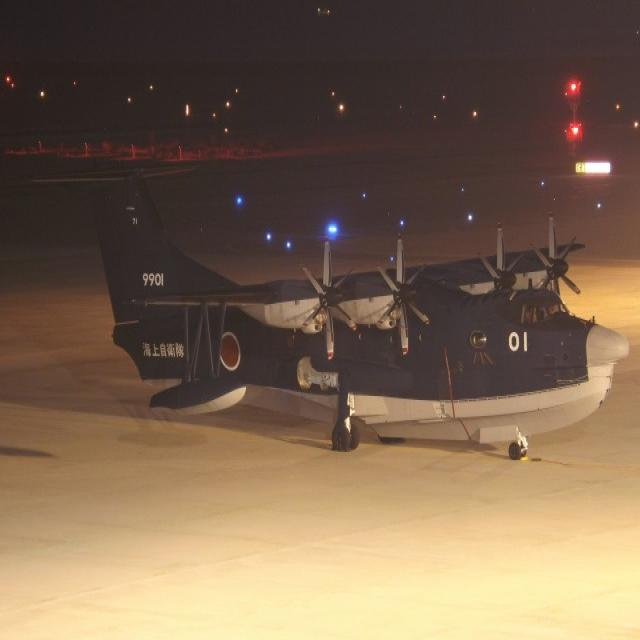MIL_Plane: (31, 163, 630, 460)
